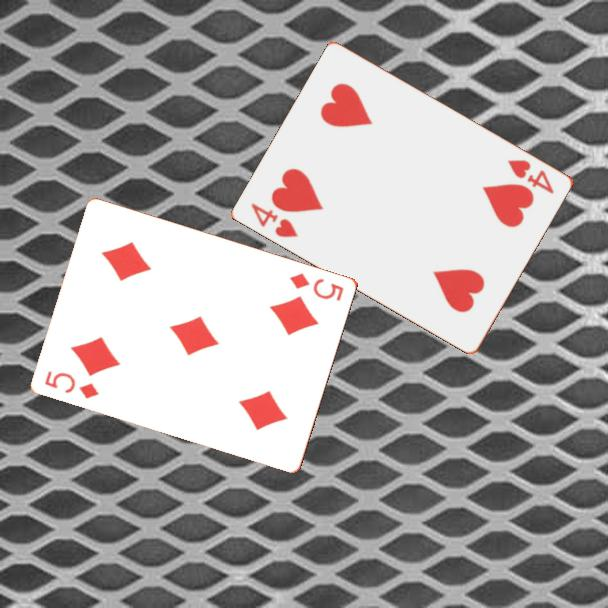d05: (286, 269, 347, 304), (42, 367, 102, 402)
h04: (248, 199, 302, 240), (504, 156, 557, 197)
